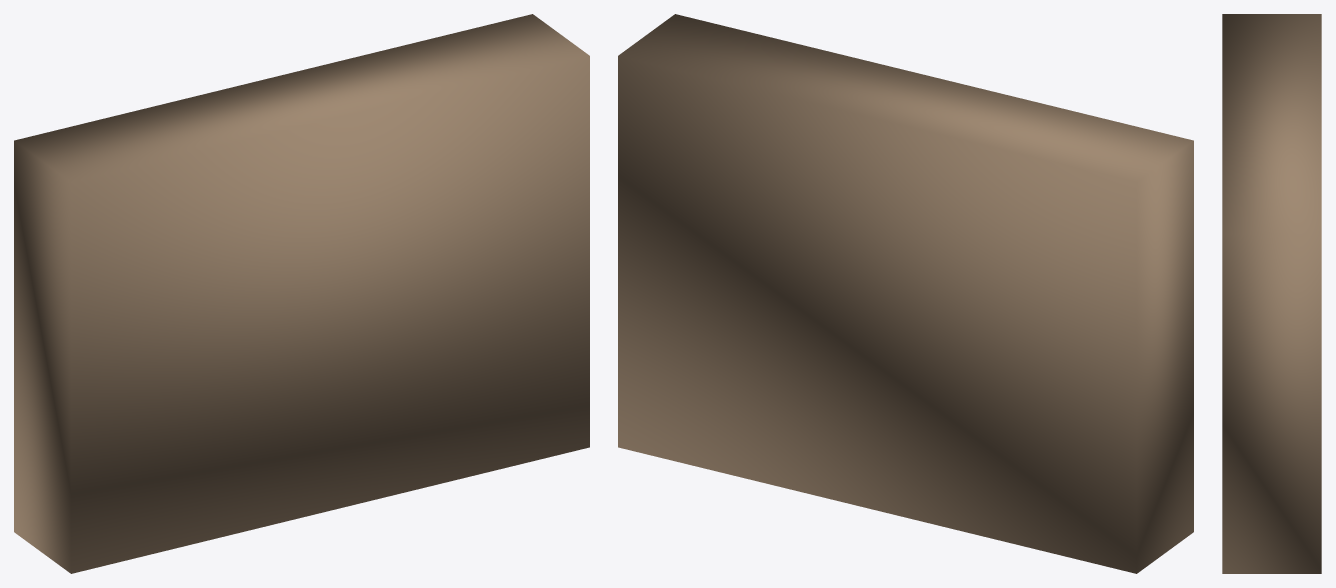
File: back_bar_shelf__squat.glb
The picture shows the model from 3 angles, left to right: view 1: azimuth 30°, elevation 25°; view 2: azimuth 150°, elevation 25°; view 3: azimuth 270°, elevation 25°; orthographic projection. The views are drawn at different scales.
Parts seen in each view (by area): view 1: world; view 2: world; view 3: world.
Part boxes in pixels (x1,y1,x2,y2): world: (14, 14, 589, 573); world: (618, 14, 1193, 573); world: (1222, 14, 1321, 573).
Size of the model in its own units: 1.98 by 1.43 by 0.378.
